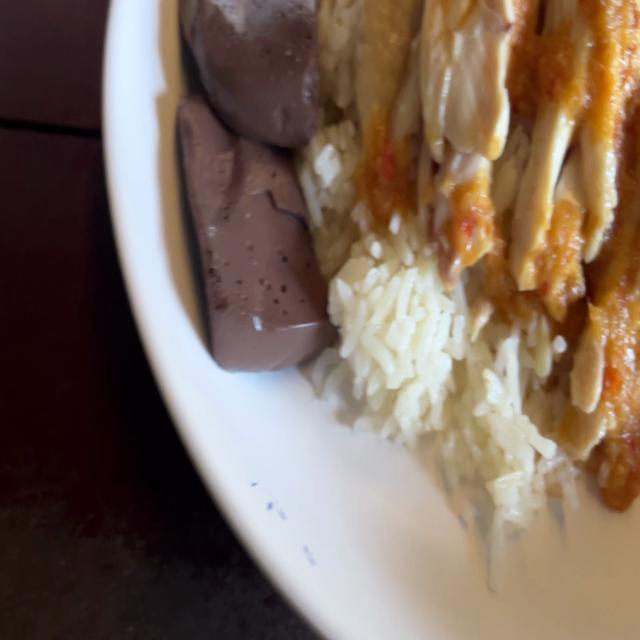boiled_chicken: (329, 9, 640, 417)
boiled_chicken_blood_jelly: (182, 96, 318, 385), (194, 0, 318, 144)
chicken_rice: (175, 0, 640, 598)
